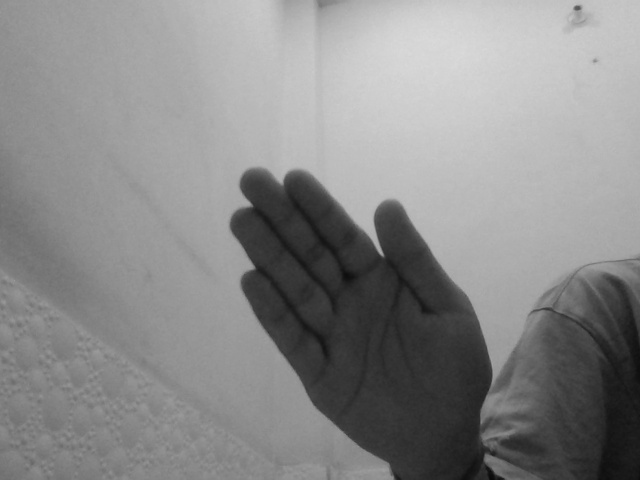Hello: (232, 165, 497, 457)
